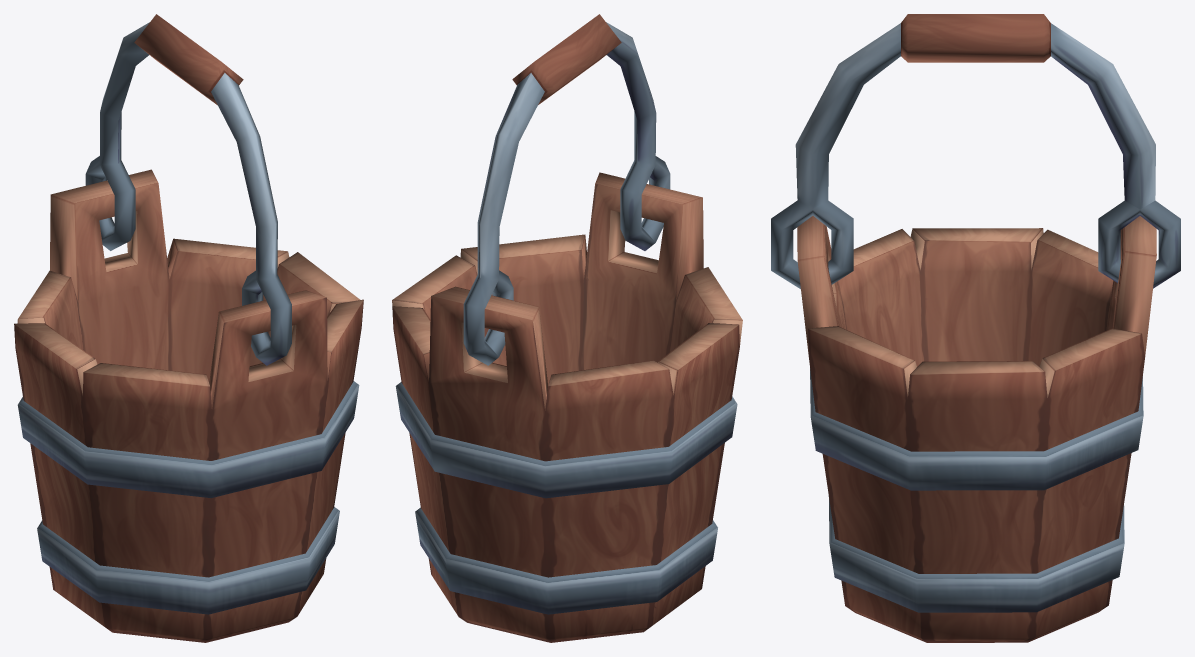
Rendered from bucket.FBX.
The picture shows the model from 3 angles, left to right: view 1: azimuth 30°, elevation 25°; view 2: azimuth 150°, elevation 25°; view 3: azimuth 270°, elevation 25°; orthographic projection. The views are drawn at different scales.
Parts seen in each view (by area): view 1: bucket, handle; view 2: bucket, handle; view 3: bucket, handle.
Boxes of the visible parts, x1,y1,x2,y2 form: bucket: (14,169,363,642); handle: (85,14,291,365); bucket: (392,172,742,642); handle: (463,14,670,365); bucket: (797,216,1156,642); handle: (771,14,1180,289).
Bounding box in the file's own units: 13.75 × 25.48 × 16.38.
1 material, 1 textured.
